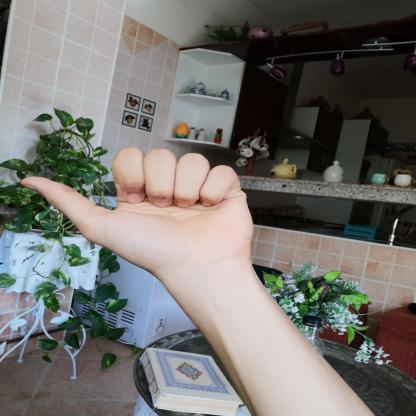DAD: (7, 136, 268, 281)
